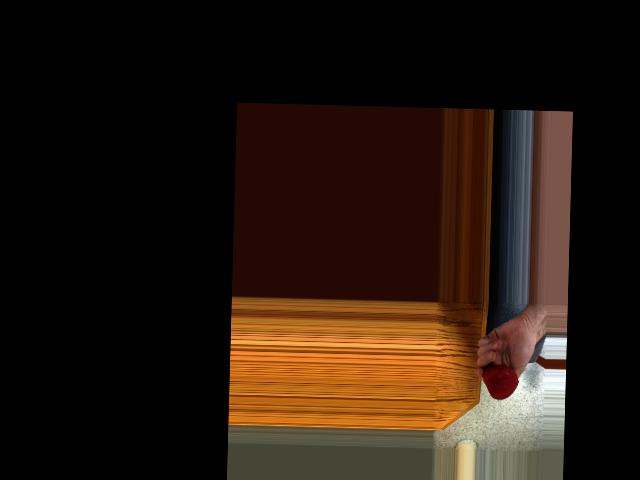apple: (481, 363, 519, 401)
